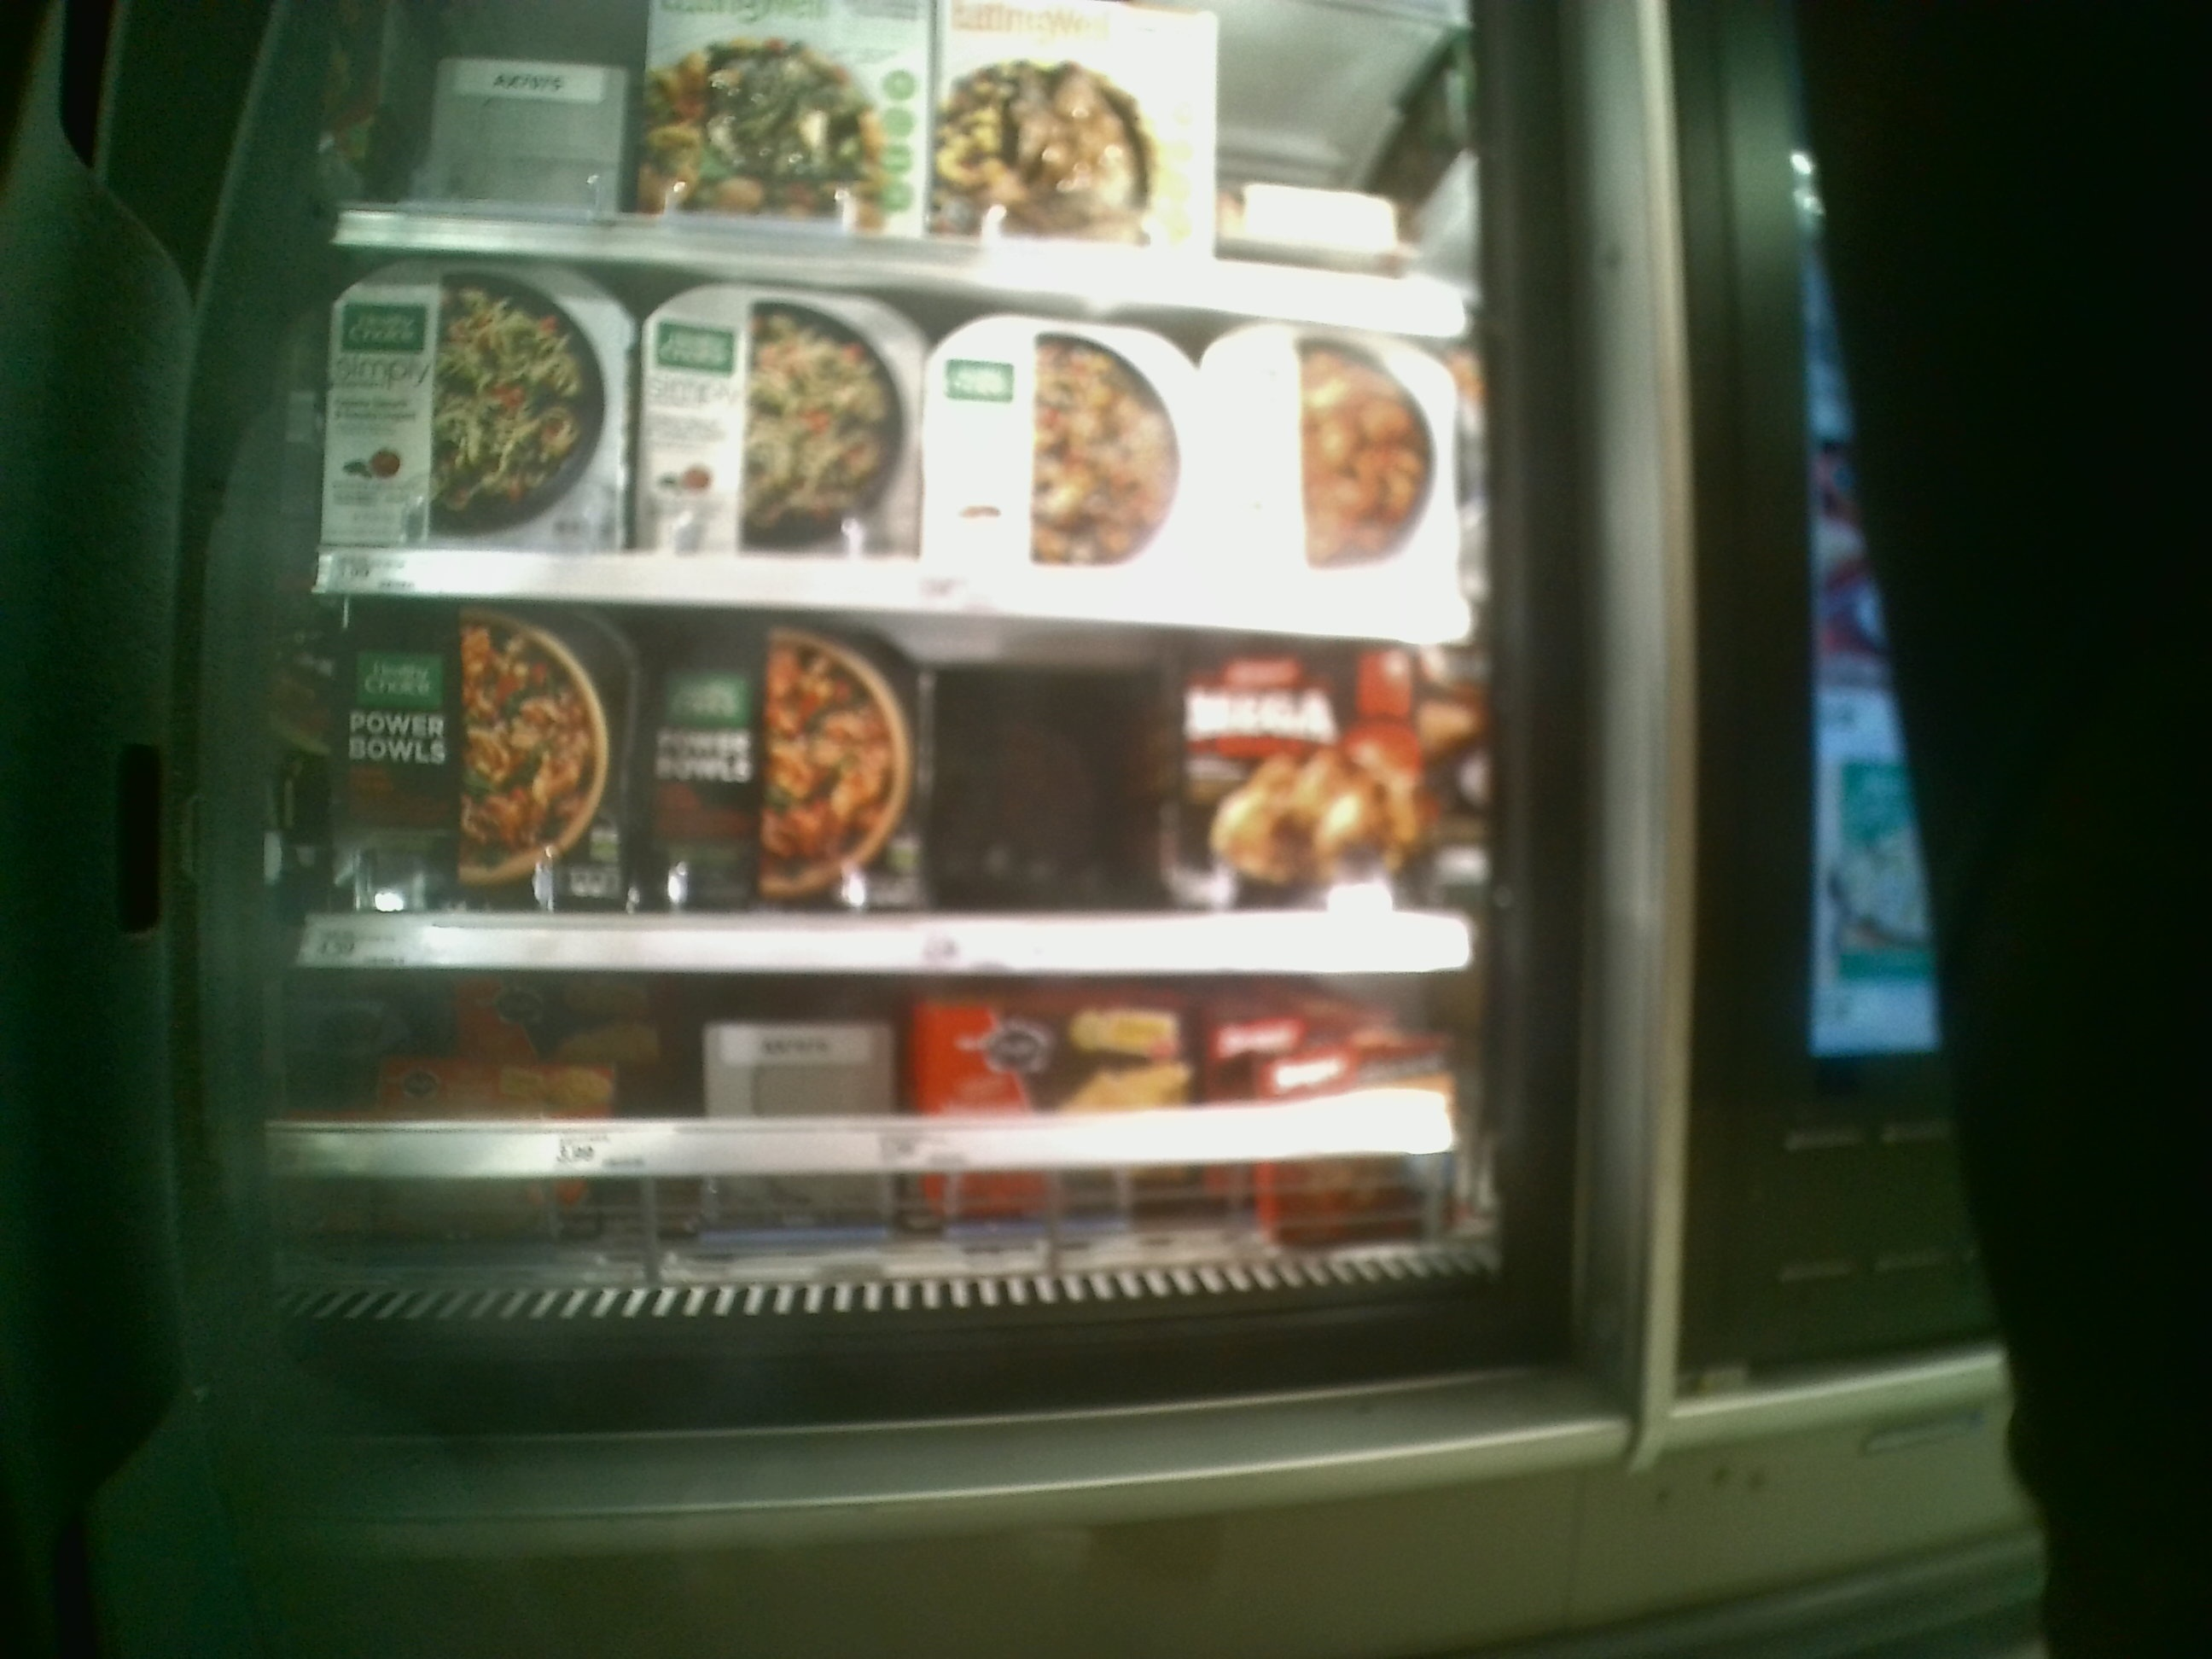shelf: (324, 234, 1489, 647), (265, 964, 1508, 1338), (303, 592, 1474, 972)
